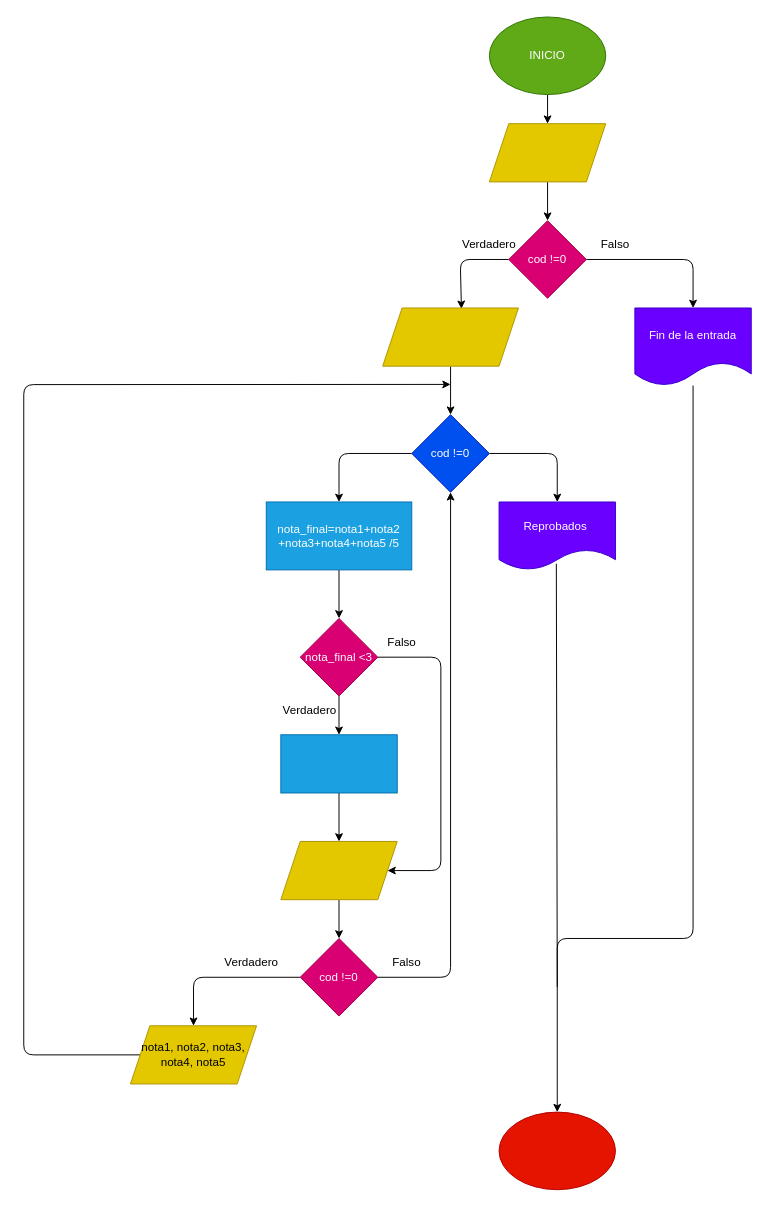
The diagram is 768 pixels wide and 1207 high, and some of its shapes have lost their labels. Here are the shapes that lost their labels. From the top down, the centre of each, then its label:
At point 547,152: "cod reprobados=0".
At point 450,336: "nota1, nota2,nota3,nota4,nota5".
At point 338,763: "reprobados= reprobados + 1".
At point 338,870: "cod".
At point 556,1150: "FIN".
